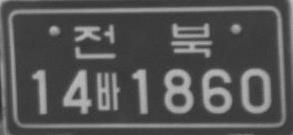0: (239, 66, 271, 115)
1: (127, 68, 155, 114), (27, 68, 54, 115)
4: (63, 69, 93, 114)
6: (201, 67, 233, 114)
8: (163, 67, 195, 114)
바: (95, 72, 121, 111)
전북_D: (73, 21, 212, 59)
